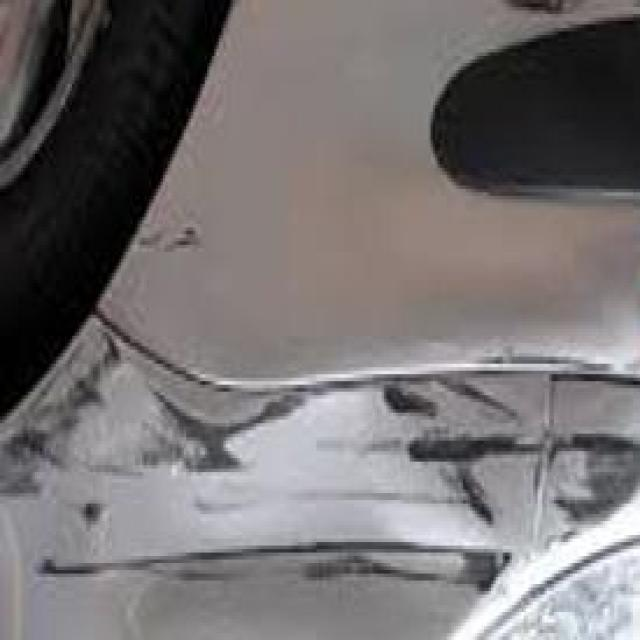scratch: (4, 295, 640, 603)
